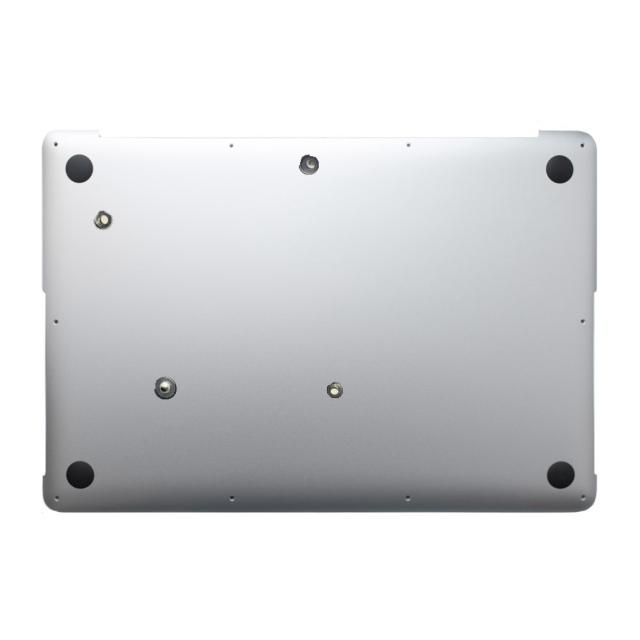missing_screw: (154, 376, 177, 399), (298, 154, 319, 175), (93, 210, 112, 229), (326, 381, 343, 398)
